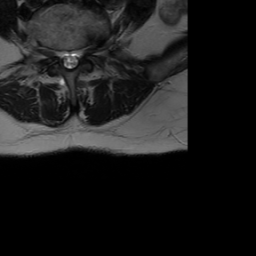CCS_normal: (65, 41, 72, 76)
LFS_normal: (80, 36, 89, 62)
LLS_normal: (72, 42, 80, 72)
RFS_stenosis: (49, 40, 57, 64)
RLS_normal: (57, 41, 65, 72)
